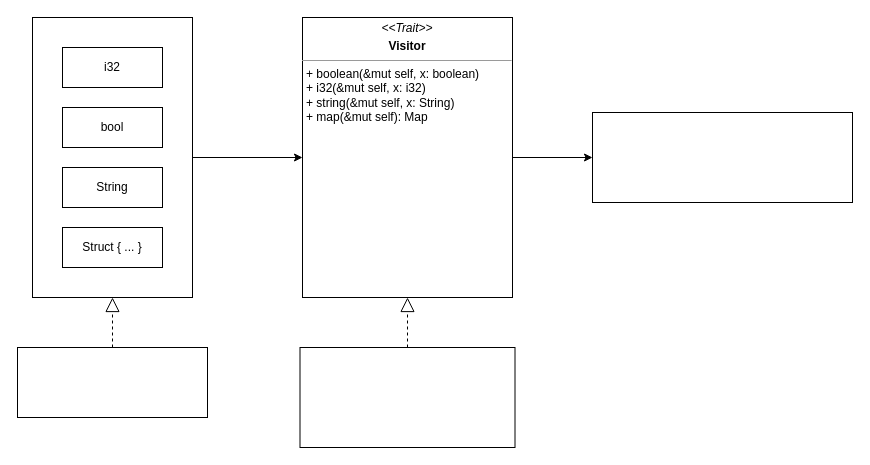
Image size: 870x465. Some labels were removed from this diagram. Here are the shapes that lost their labels. From the top down, the centre of each, then its label:
At (x=722, y=157): "Deserializer + from_tokens<T>(tokens: &Vec<Token>): T".
At (x=112, y=382): "<<Trait>> Deserialize + begin(out: PlaceStore): Visitor".
At (x=407, y=397): "<<Trait>> Map + key(key: &str): Deserialize + finish()".
